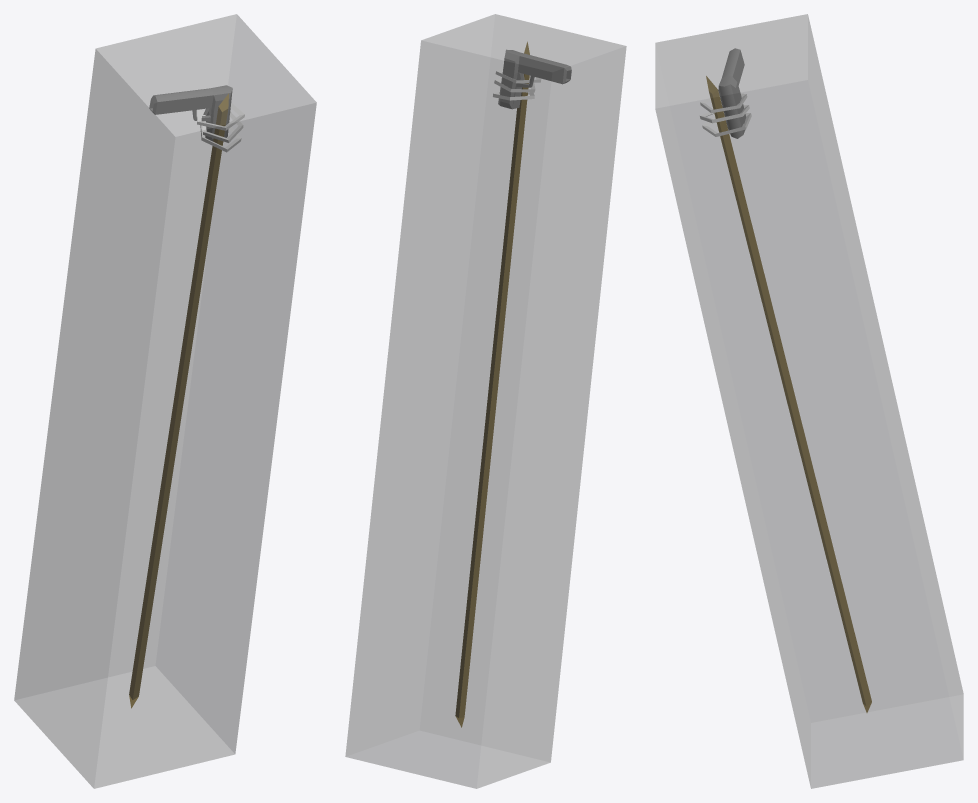
File: weapon_gun.fbx
The picture shows the model from 3 angles, left to right: view 1: azimuth 30°, elevation 25°; view 2: azimuth 150°, elevation 25°; view 3: azimuth 270°, elevation 25°; orthographic projection. The views are drawn at different scales.
Parts seen in each view (by area): view 1: simple, weapon6gun; view 2: simple, weapon6gun; view 3: simple, weapon6gun.
Part boxes in pixels (<box>): simple: <box>14,14,316,788</box>; weapon6gun: <box>129,85,244,708</box>; simple: <box>345,14,626,788</box>; weapon6gun: <box>455,41,571,727</box>; simple: <box>655,14,963,788</box>; weapon6gun: <box>700,48,871,712</box>.
Size of the model in its own units: 1 by 5.01 by 1.98.
